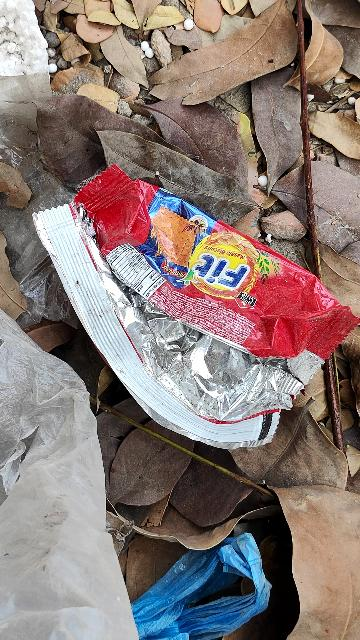packet: (0, 134, 353, 475)
